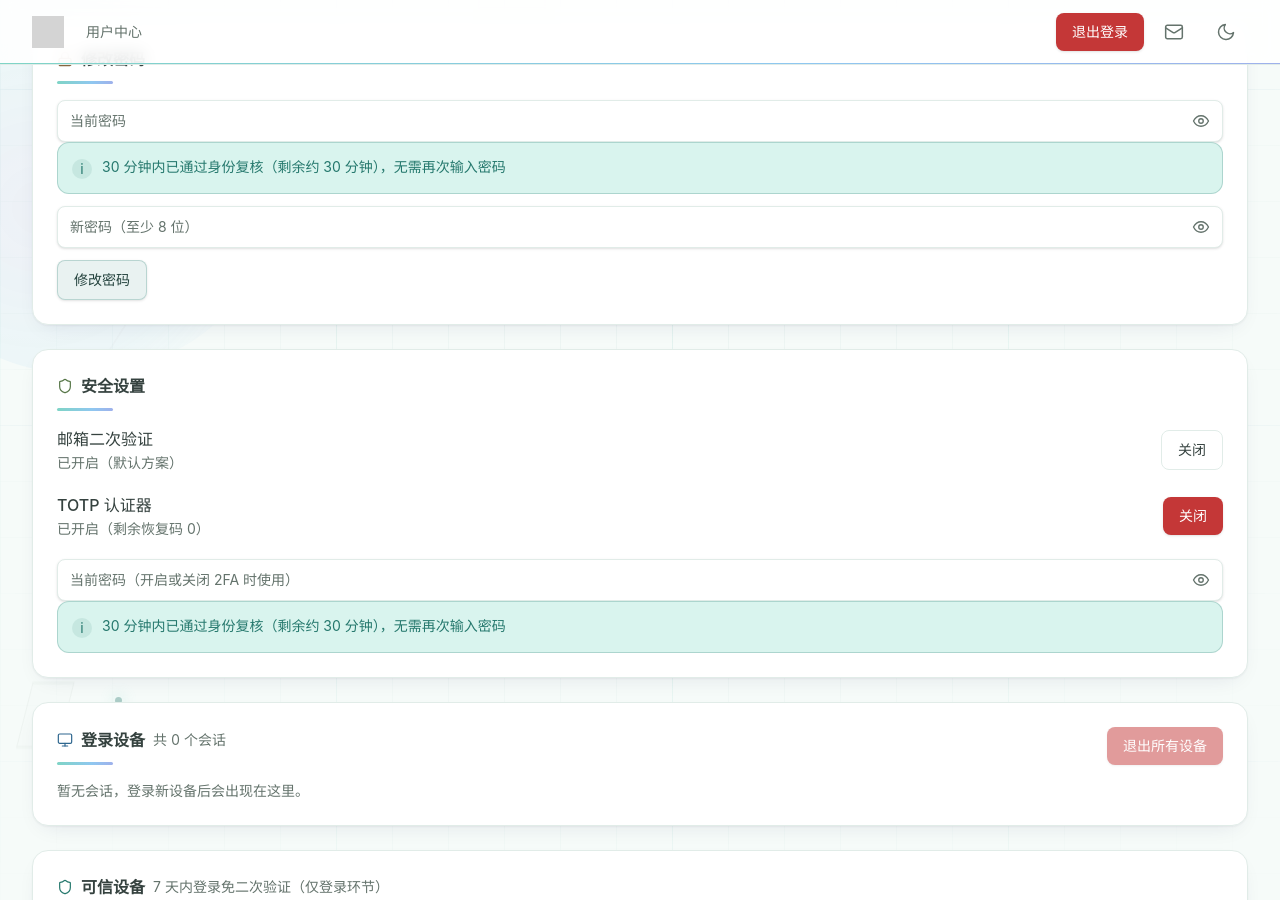
Test case: DashboardPage 2FA › 窗口外关闭邮箱 2FA 要求输入密码
(page scrolled)
Expected: the text "已开启（默认方案）" is shown, [57,453,183,473]
Click the button with aria-label "关闭邮箱二次验证": (1192, 450) [1161,430,1223,470]
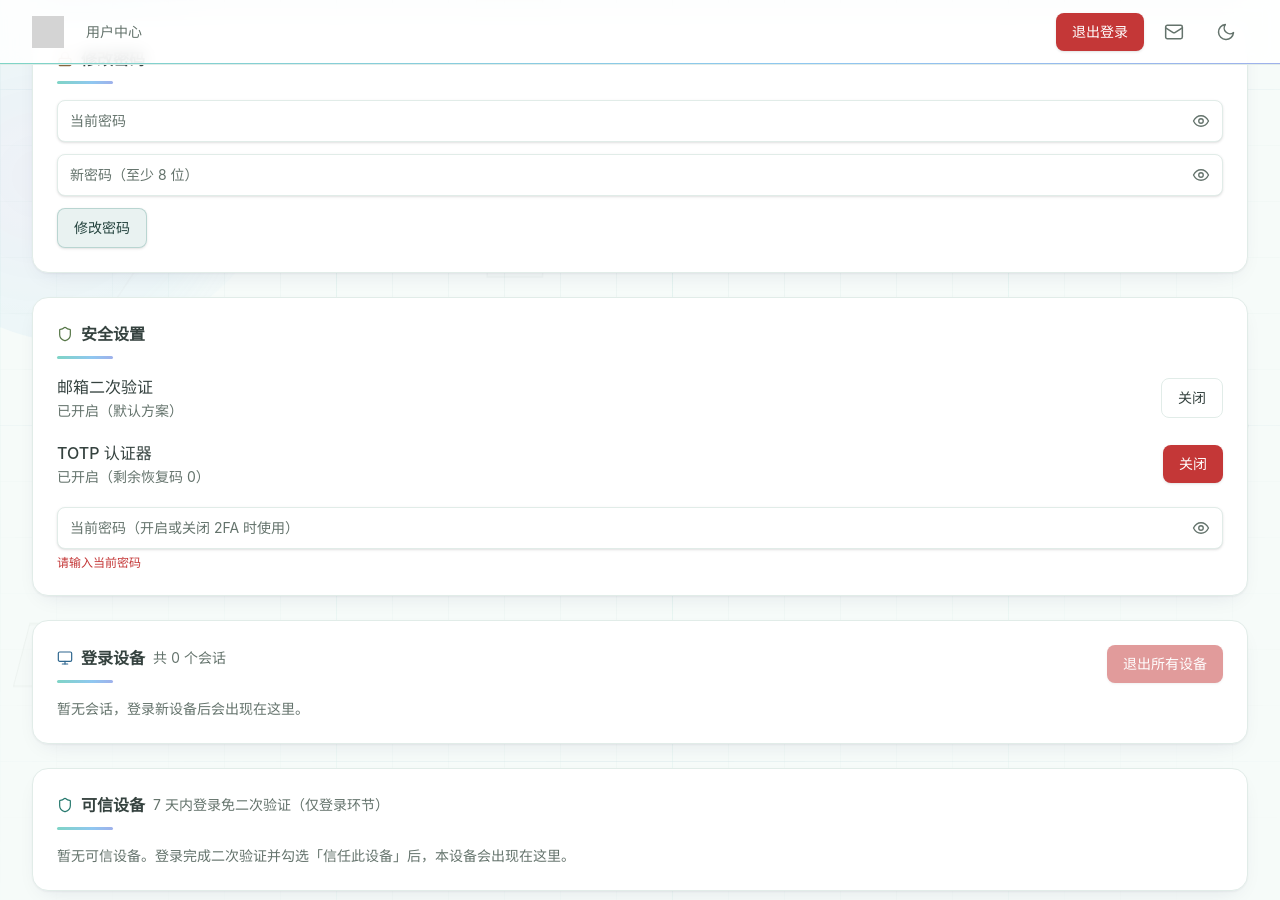
Expected: the text "请输入当前密码" is shown, [57,555,141,570]
